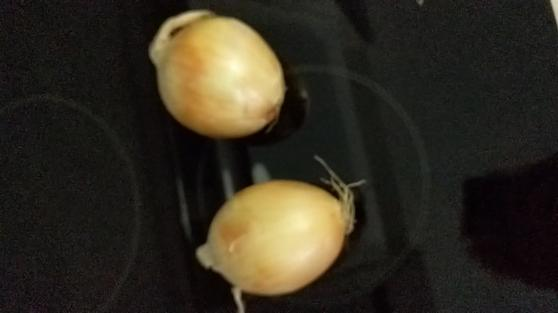onion: (192, 176, 361, 295), (147, 9, 286, 140)
